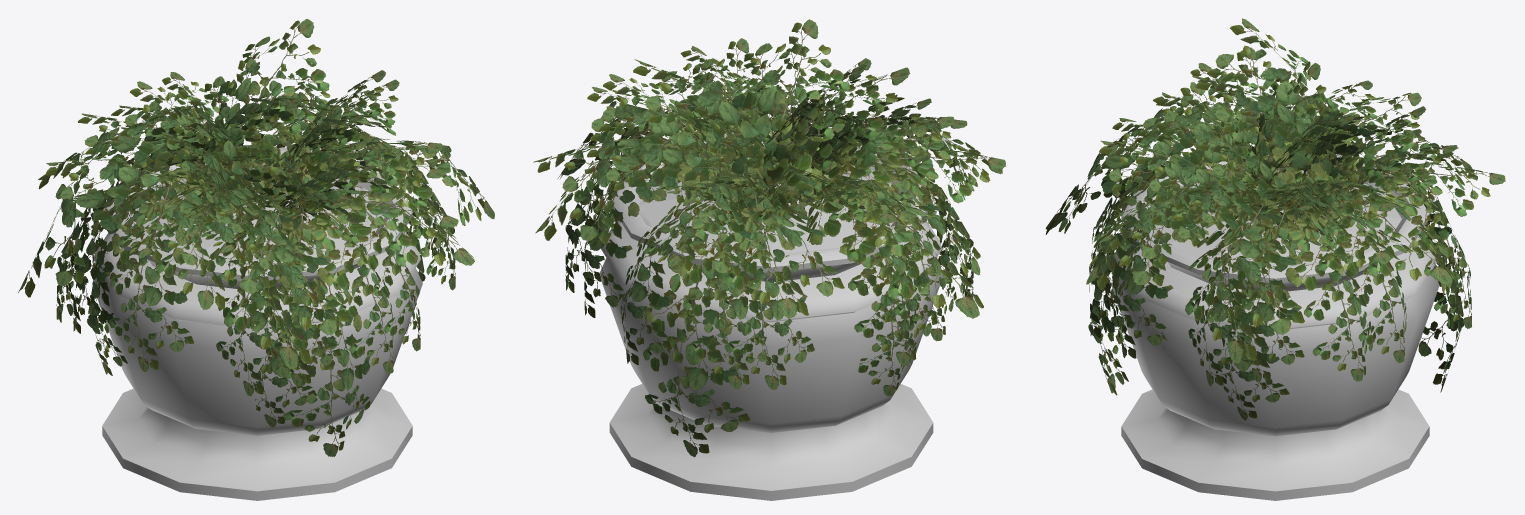
Rendered from Prop_Plant_01.FBX.
3 views of the same model, side by side, from view 1: azimuth 30°, elevation 25°; view 2: azimuth 150°, elevation 25°; view 3: azimuth 270°, elevation 25° (orthographic). The views are drawn at different scales.
Parts seen in each view (by area): view 1: Prop_Plant_01; view 2: Prop_Plant_01; view 3: Prop_Plant_01.
Part boxes in pixels (left/top/right/bottom): Prop_Plant_01: left=18, top=19, right=494, bottom=500; Prop_Plant_01: left=533, top=19, right=1005, bottom=500; Prop_Plant_01: left=1045, top=18, right=1505, bottom=500.
Bounding box in the file's own units: 1.9 × 1.49 × 1.74.
